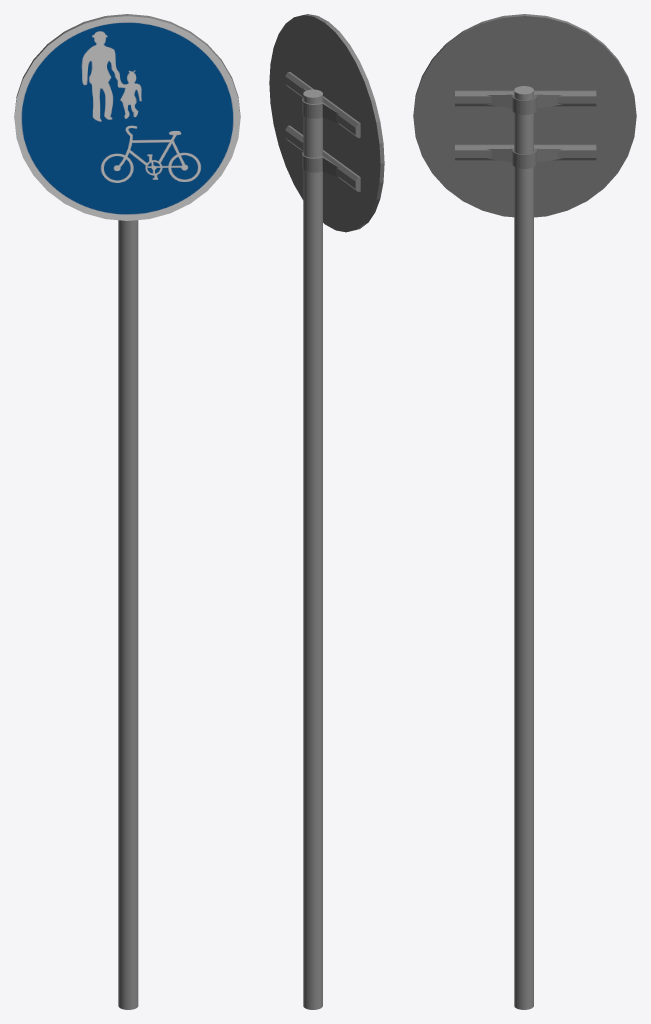
The picture shows the model from 3 angles, left to right: view 1: azimuth 90°, elevation 25°; view 2: azimuth 210°, elevation 25°; view 3: azimuth 270°, elevation 25°; orthographic projection.
Visible parts, largest first — view 1: 022, Prop; view 2: Prop, 022; view 3: 022, Prop.
Part boxes in pixels (box(x1,y1,x2,y2)): 022: box(14, 14, 240, 220); Prop: box(118, 220, 138, 1009); Prop: box(285, 72, 360, 1009); 022: box(269, 14, 384, 232); 022: box(413, 14, 636, 217); Prop: box(455, 86, 596, 1009).
Bounding box in the file's own units: 6.76 × 253 × 52.01.
